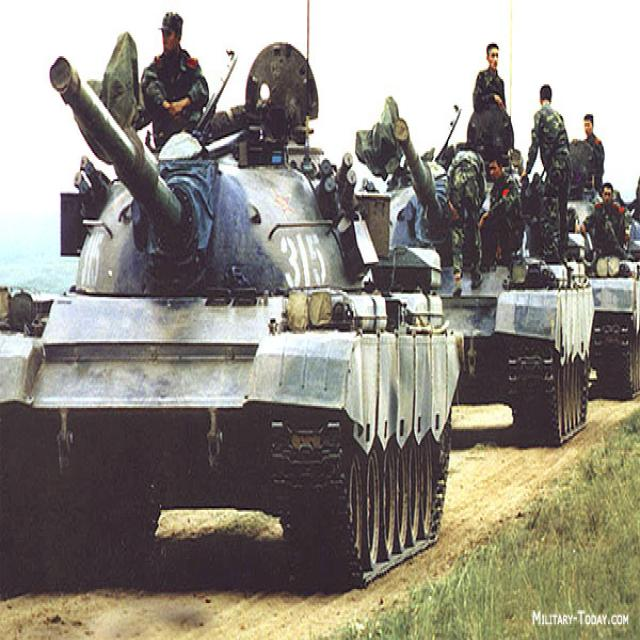Tank: (6, 79, 469, 543), (363, 150, 586, 432), (559, 184, 638, 408)
